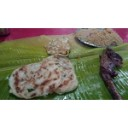parota: (10, 56, 79, 95)
